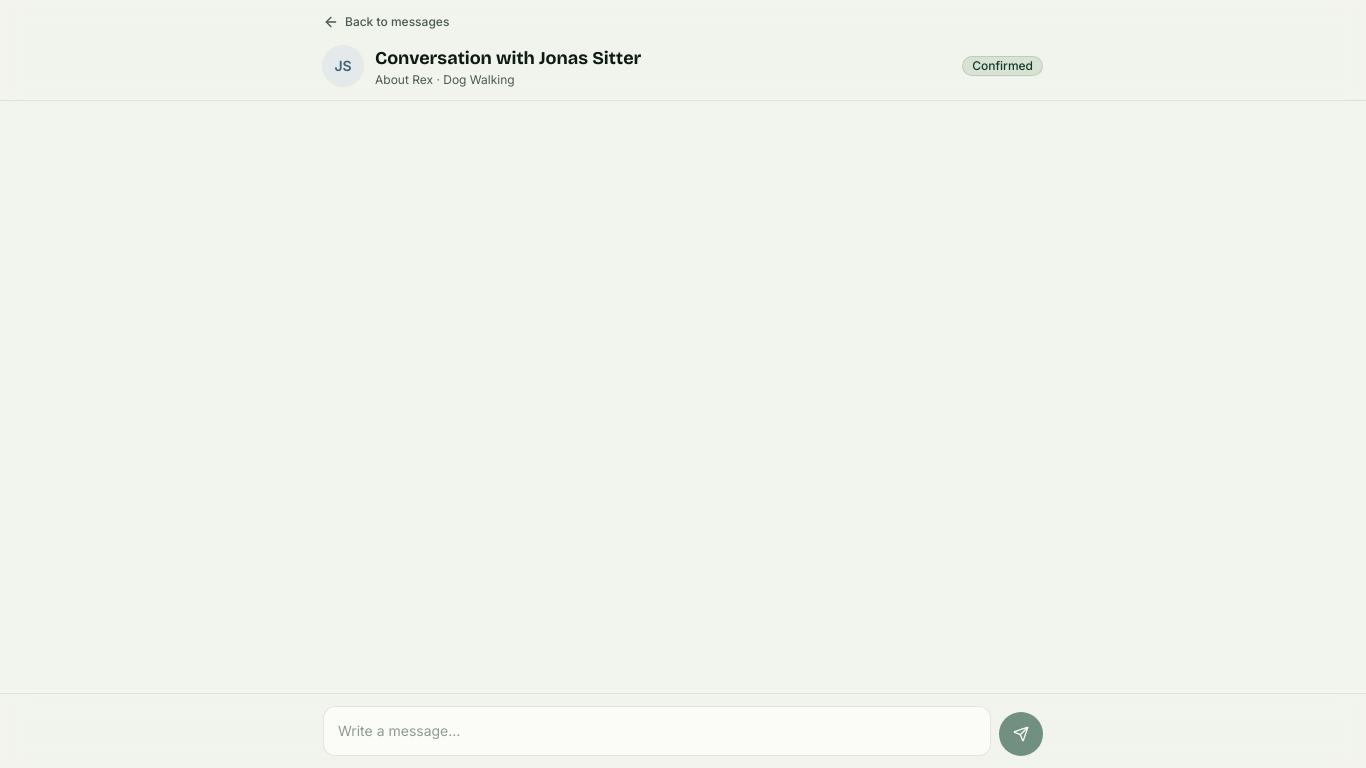
Test: sending › shows the message optimistically before the server responds
In the text box: {"x": 657, "y": 731} x1=323 y1=706 x2=991 y2=756, type "optimistic"
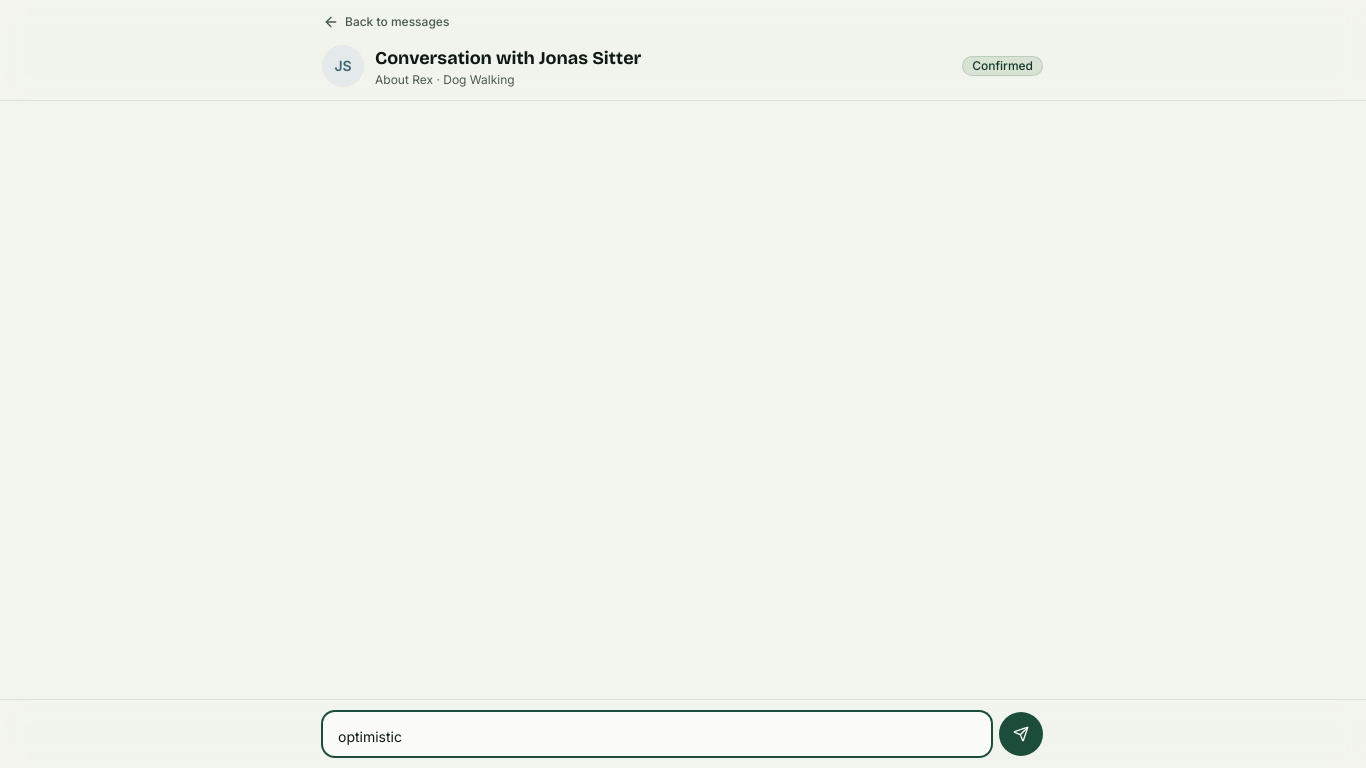
Click the button named "send": {"x": 1021, "y": 734} x1=999 y1=712 x2=1043 y2=756
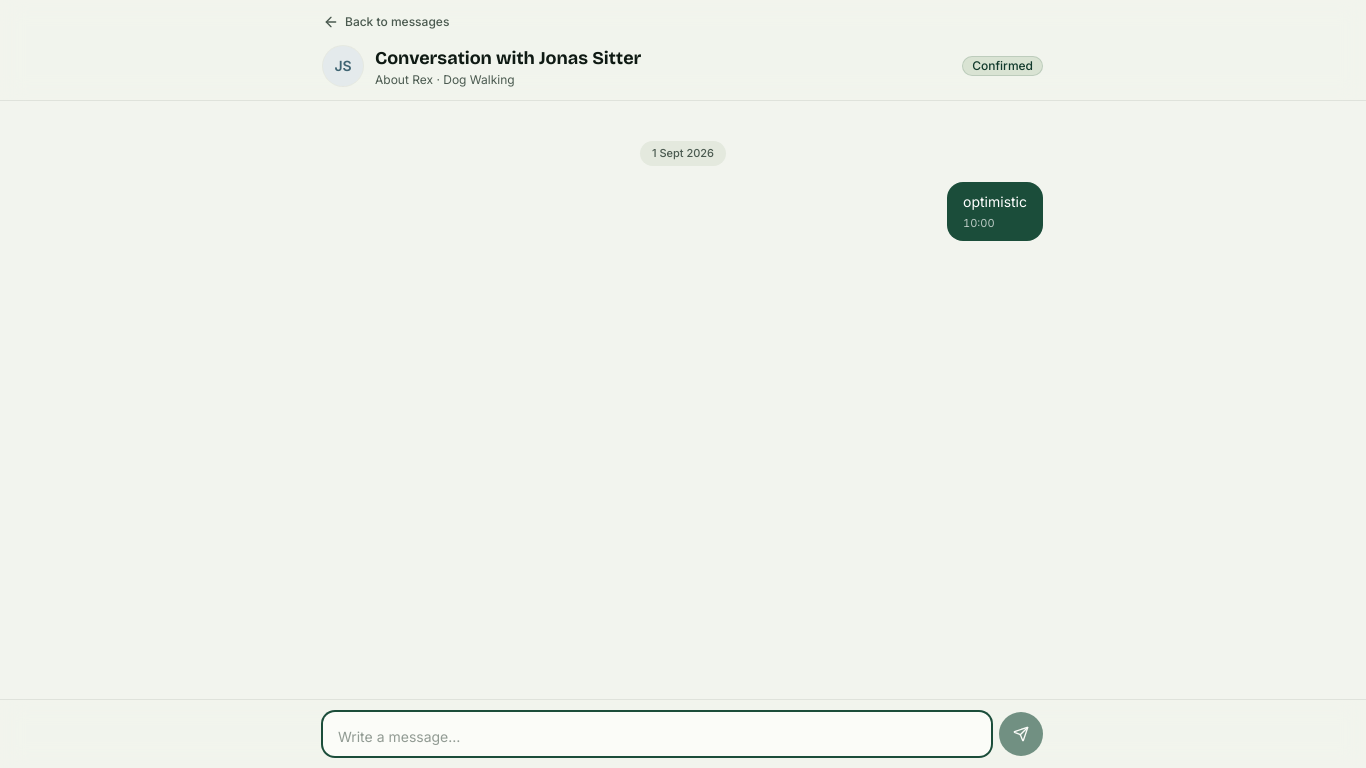
Result: the text "optimistic" is shown at x1=963 y1=192 x2=1027 y2=210
